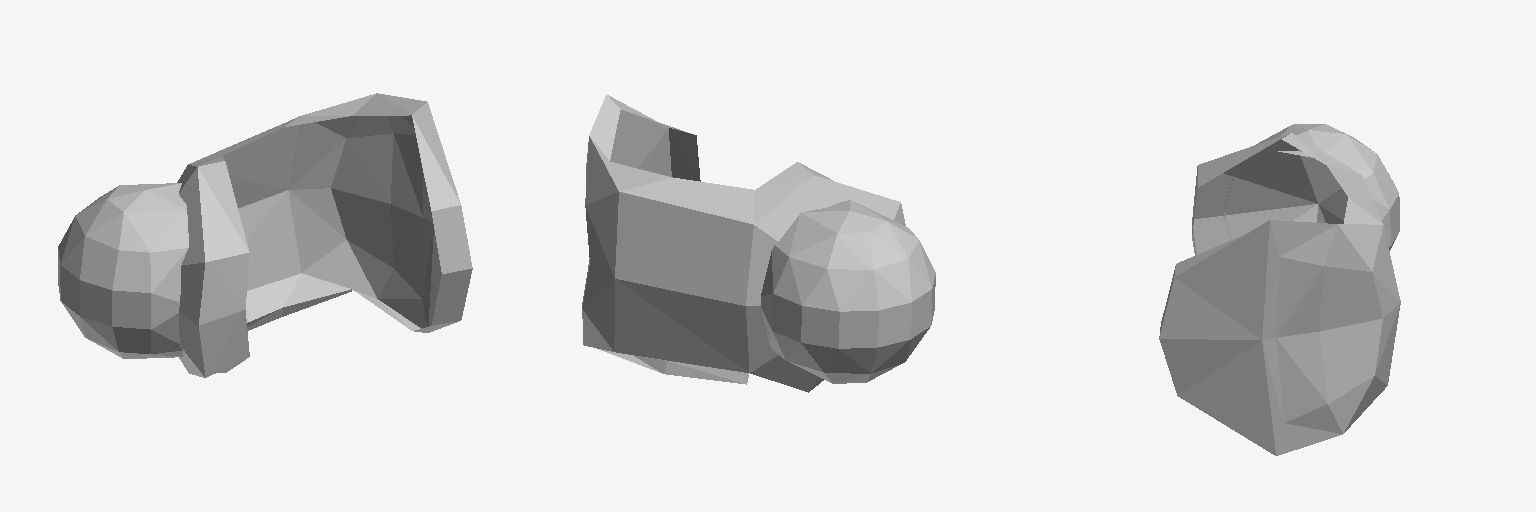
Rendered from Phalax_0.obj.
3 views of the same model, side by side, from view 1: azimuth 30°, elevation 25°; view 2: azimuth 150°, elevation 25°; view 3: azimuth 270°, elevation 25° (orthographic).
Size of the model in its own units: 0.0234 by 0.0154 by 0.0144.